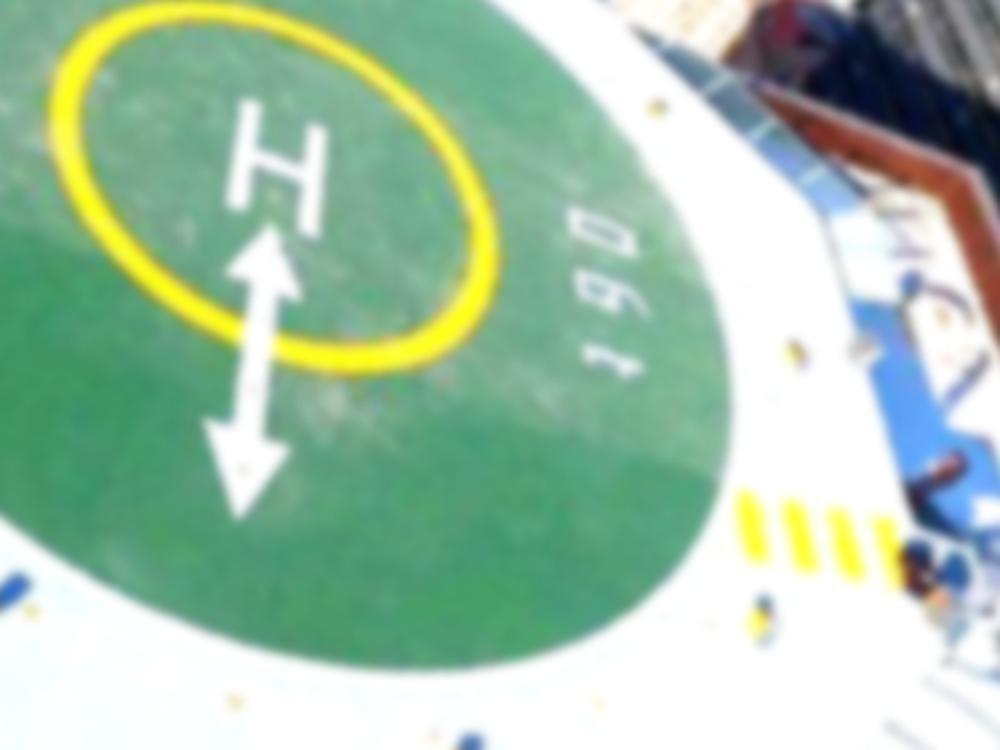Apron: (16, 1, 485, 373)
